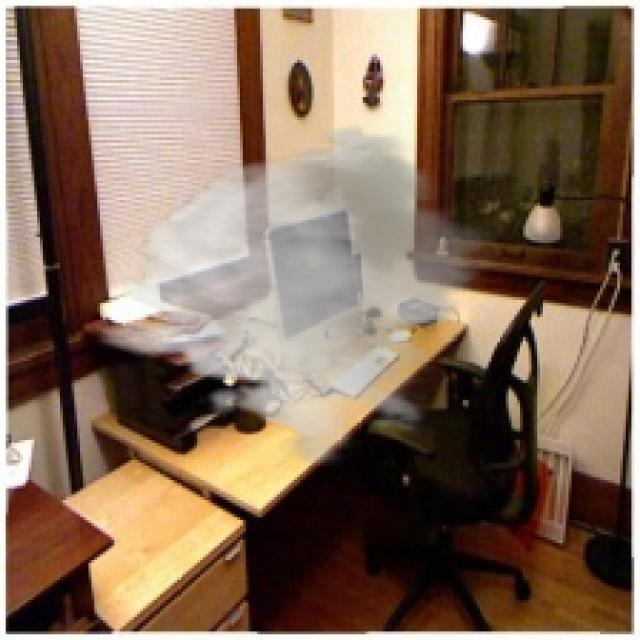Smoke: (97, 123, 503, 466)
